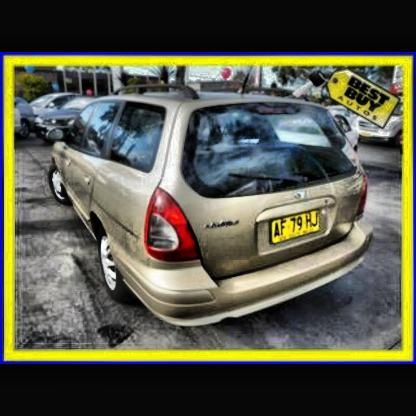Daewoo Nubira Wagon 2002: (48, 85, 378, 339)
